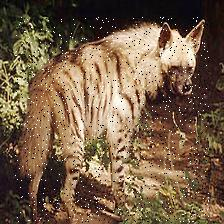hyena: (14, 18, 208, 224)
